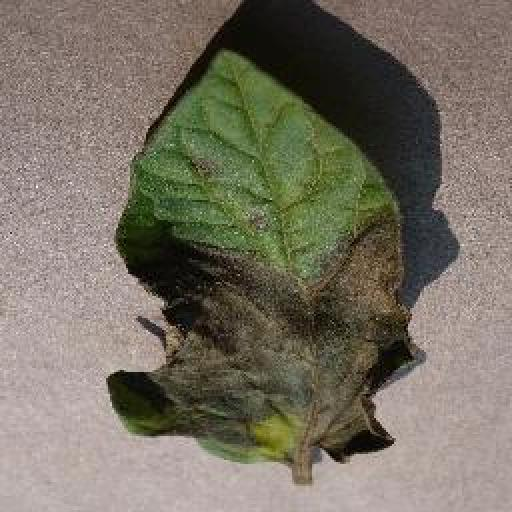disease_tomato: (104, 46, 426, 462)
